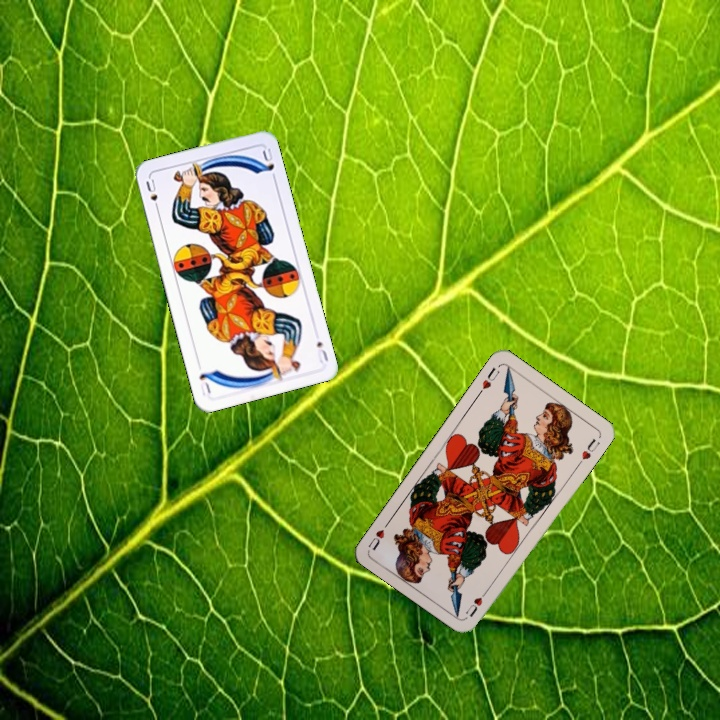HU: (461, 585, 491, 620), (474, 363, 502, 397)
SU: (142, 175, 162, 214), (312, 337, 331, 366)
